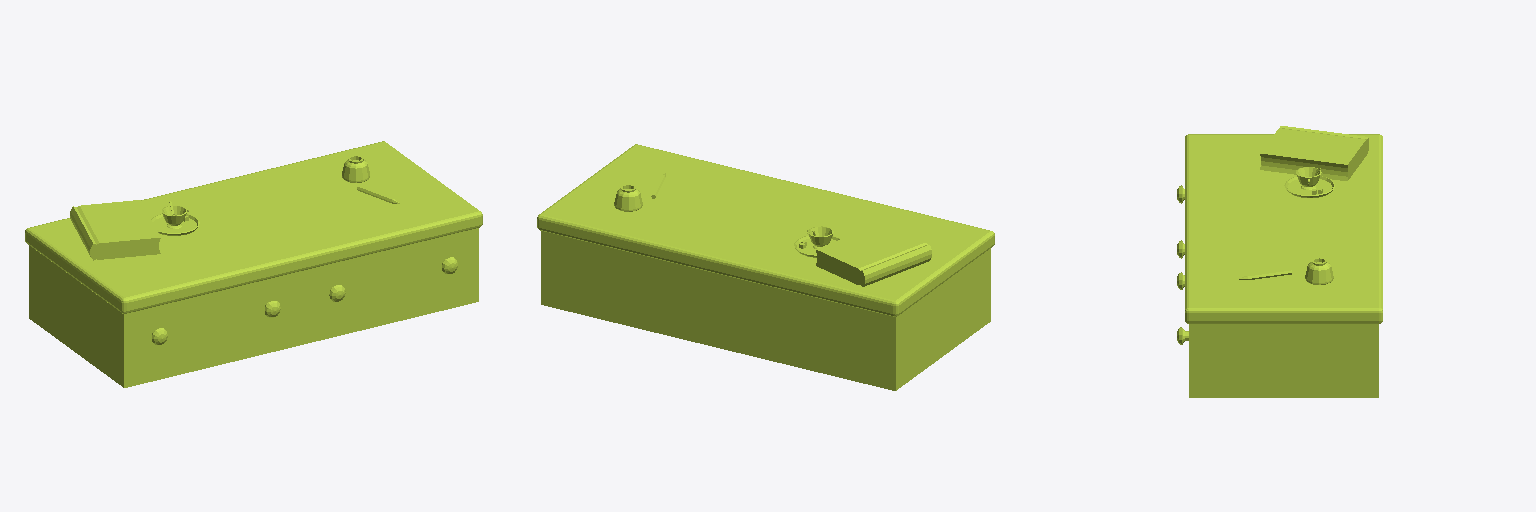
The model's file is tabb.obj.
3 views of the same model, side by side, from view 1: azimuth 30°, elevation 25°; view 2: azimuth 150°, elevation 25°; view 3: azimuth 270°, elevation 25° (orthographic).
Parts seen in each view (by area): view 1: Cylinder002; view 2: Cylinder002; view 3: Cylinder002.
Part boxes in pixels (x1,y1,x2,y2): Cylinder002: (25,141,482,387); Cylinder002: (537,144,994,390); Cylinder002: (1177,126,1382,397).
Size of the model in its own units: 258 by 75.95 by 128.